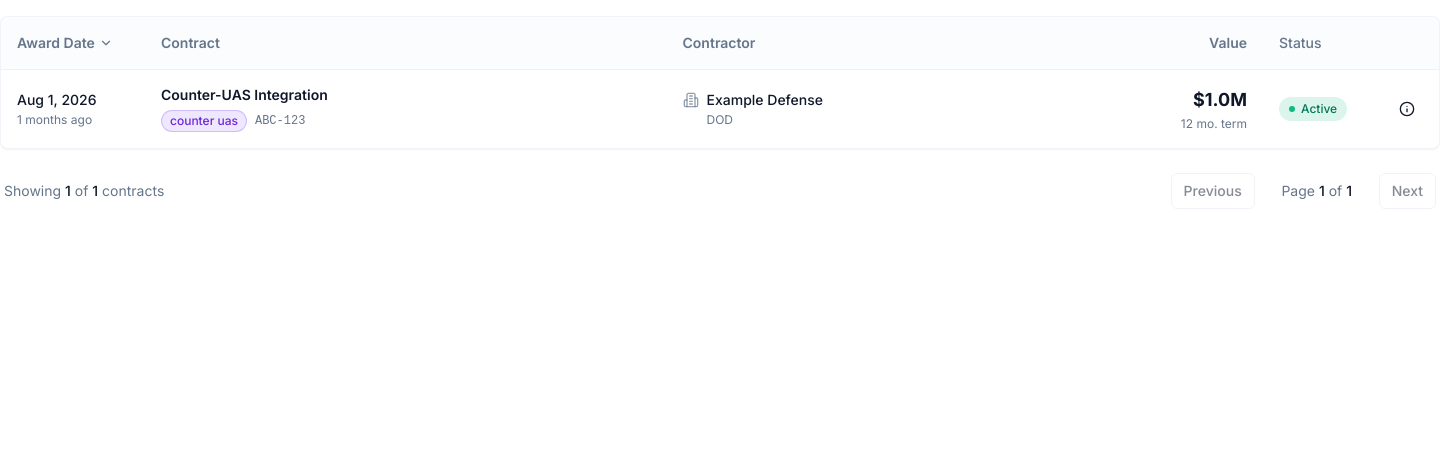
Test: shared accessibility behavior › exposes contract sort and expansion state
Click the button named "Show details for Counter-UAS Integration": (1407, 109) [1391, 93, 1423, 125]
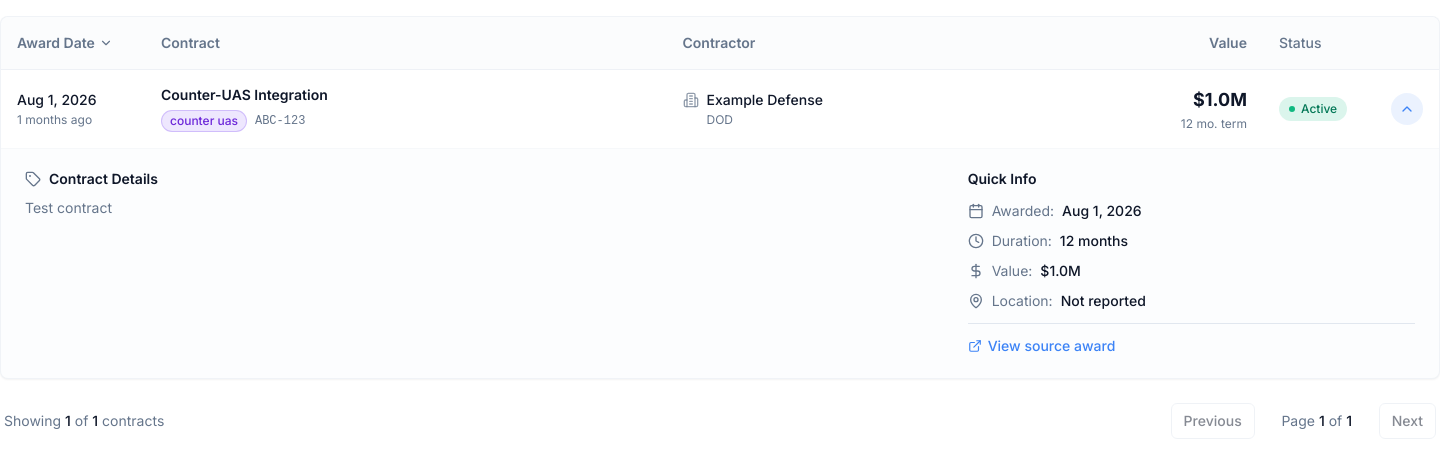
Check: the button named "Show details for Counter-UAS Integration" is expanded, box [1391, 93, 1423, 125]
